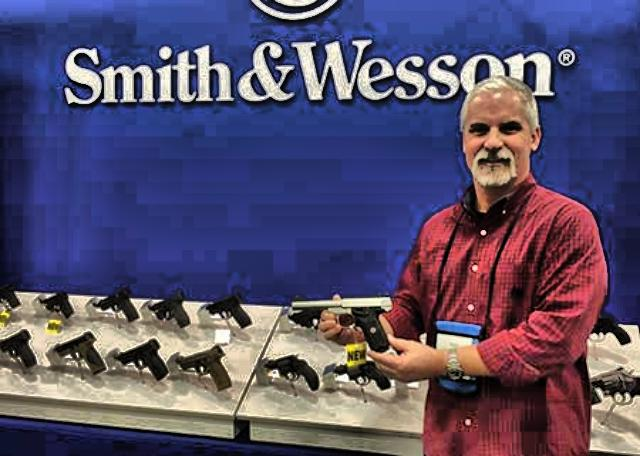pistol: (286, 291, 389, 347), (165, 344, 243, 388), (586, 360, 638, 414), (114, 333, 174, 377), (50, 331, 108, 375), (260, 350, 318, 392), (200, 292, 250, 330), (585, 305, 631, 346), (332, 358, 390, 388), (90, 288, 138, 324), (145, 290, 187, 330), (0, 330, 36, 372), (36, 290, 72, 314)
